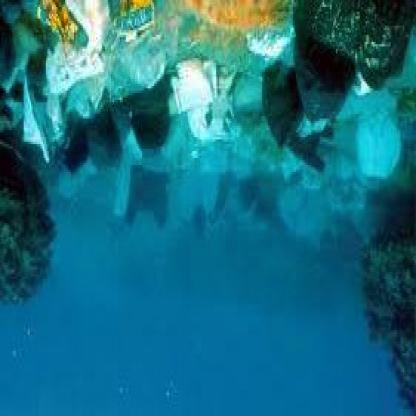pbag: (1, 2, 416, 228)
